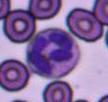N: (26, 28, 81, 78)
